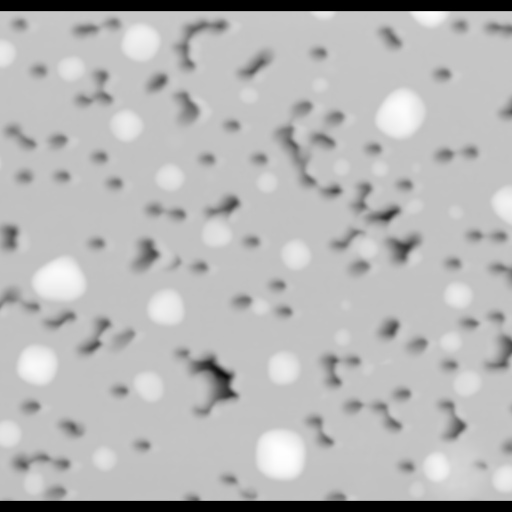Hole: (174, 342, 248, 418), (339, 387, 422, 432), (273, 99, 346, 150), (175, 18, 225, 74), (80, 314, 134, 355), (484, 301, 511, 374), (124, 234, 166, 278), (70, 69, 116, 109), (317, 347, 359, 389), (228, 43, 271, 81), (433, 398, 468, 444), (212, 469, 259, 499), (289, 143, 319, 190), (9, 452, 75, 473), (0, 284, 40, 318), (267, 276, 297, 321), (64, 14, 124, 35), (306, 409, 339, 447), (56, 406, 90, 442), (1, 119, 37, 152), (142, 199, 191, 223), (433, 143, 489, 164), (175, 87, 204, 125), (384, 228, 419, 259), (370, 308, 402, 341), (204, 194, 246, 219), (464, 226, 511, 247), (478, 15, 511, 42), (0, 212, 22, 251), (129, 434, 163, 459), (372, 23, 402, 51), (425, 58, 453, 88), (363, 200, 398, 223), (41, 308, 79, 329), (140, 70, 170, 96), (480, 255, 511, 280), (401, 329, 429, 355), (489, 87, 511, 120), (16, 394, 48, 416), (48, 159, 76, 184), (349, 181, 371, 212), (82, 229, 109, 254), (191, 146, 221, 168), (181, 255, 212, 276), (44, 128, 71, 152), (327, 225, 350, 252), (225, 286, 249, 311), (321, 179, 344, 204), (439, 248, 465, 270), (9, 161, 36, 182), (244, 147, 272, 167), (489, 432, 511, 457), (217, 111, 240, 134), (101, 169, 123, 192), (104, 379, 128, 400), (6, 14, 34, 31), (318, 487, 357, 499), (166, 248, 184, 274), (393, 454, 416, 474), (348, 261, 371, 281), (89, 145, 110, 166), (305, 40, 327, 59), (23, 59, 45, 78), (450, 15, 469, 36), (396, 175, 416, 193), (240, 232, 261, 249), (362, 138, 385, 153), (458, 316, 483, 329), (173, 487, 200, 499), (437, 357, 457, 371), (470, 458, 489, 472), (504, 398, 511, 419)
Particle: (248, 425, 311, 479), (25, 253, 92, 302), (372, 87, 432, 140), (7, 340, 68, 385), (274, 233, 318, 276), (106, 105, 149, 146), (121, 18, 162, 60), (143, 286, 187, 324), (265, 347, 304, 388), (150, 155, 189, 194), (130, 365, 171, 402), (480, 182, 511, 228), (439, 275, 477, 311), (48, 50, 88, 81), (199, 215, 233, 250), (87, 441, 124, 473), (417, 452, 455, 479), (450, 367, 485, 395), (0, 413, 25, 448), (407, 11, 451, 29), (436, 328, 466, 352), (251, 171, 282, 194), (489, 461, 511, 493), (356, 233, 380, 260), (0, 36, 19, 69), (331, 322, 354, 348), (19, 471, 47, 492), (236, 82, 261, 105), (329, 155, 353, 178), (403, 480, 432, 498), (440, 201, 463, 223), (248, 296, 270, 318), (404, 196, 427, 217), (305, 11, 341, 23), (310, 77, 333, 95), (369, 159, 391, 177), (408, 159, 427, 174), (337, 296, 352, 312), (0, 148, 1, 179)
Smear: (359, 354, 398, 373)
